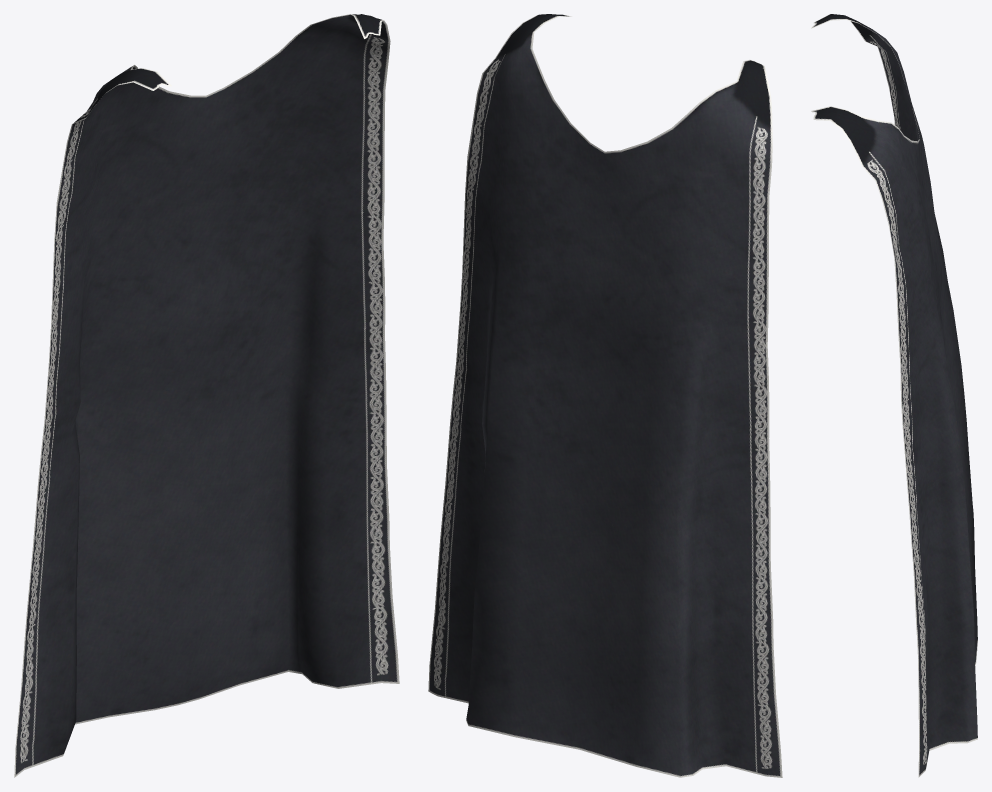
The model's file is clo_gondor_king_pauldrons.fbx.
3 renders of one model, left to right at view 1: azimuth 30°, elevation 25°; view 2: azimuth 150°, elevation 25°; view 3: azimuth 270°, elevation 25°, orthographic. The views are drawn at different scales.
Visible parts, largest first — view 1: clo_gondor_king_pauldrons; view 2: clo_gondor_king_pauldrons; view 3: clo_gondor_king_pauldrons.
Boxes of the visible parts, left/top/right/bottom form: clo_gondor_king_pauldrons: left=14, top=14, right=399, bottom=777; clo_gondor_king_pauldrons: left=428, top=14, right=782, bottom=777; clo_gondor_king_pauldrons: left=811, top=14, right=977, bottom=777.
Size of the model in its own units: 0.7293 by 0.3118 by 1.3.
1 material, 1 textured.
